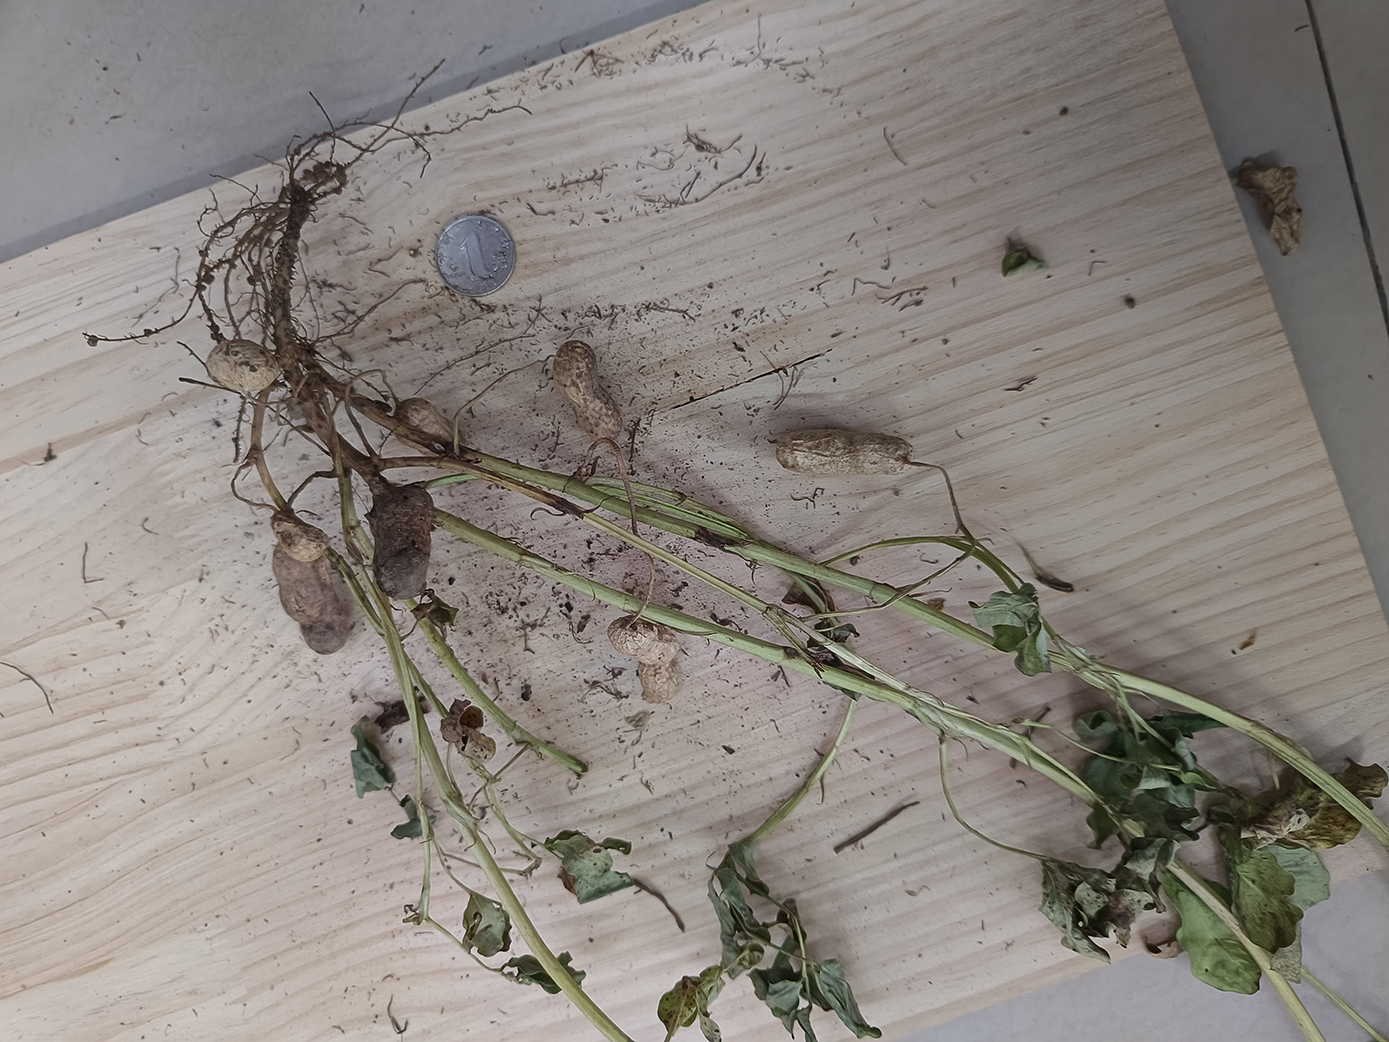h: (552, 340, 622, 445), (772, 429, 913, 479), (611, 614, 682, 705), (392, 398, 458, 458), (207, 340, 279, 394), (269, 512, 329, 564)
l: (269, 549, 350, 655), (368, 488, 435, 599)
